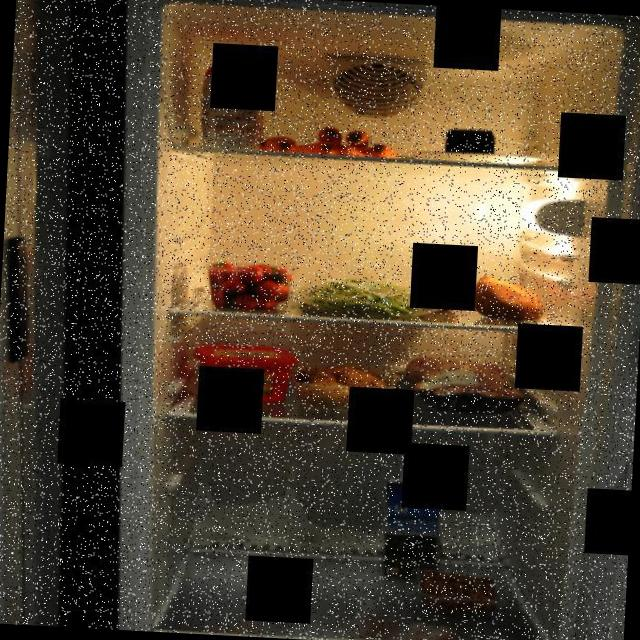Carne pollo: (393, 350, 534, 417)
Gambas/Langostinos: (419, 571, 498, 615)
Leche: (381, 474, 445, 582)
Mantequilla: (190, 342, 302, 406)
Patata: (292, 364, 398, 414)
Queso: (442, 126, 498, 158)
Zanahoria: (262, 122, 408, 164)
green_beans: (288, 274, 452, 322)
strawberries: (203, 259, 295, 314)
sugar: (200, 64, 266, 150)
sweet_potato: (467, 272, 550, 326), (420, 278, 460, 306)
